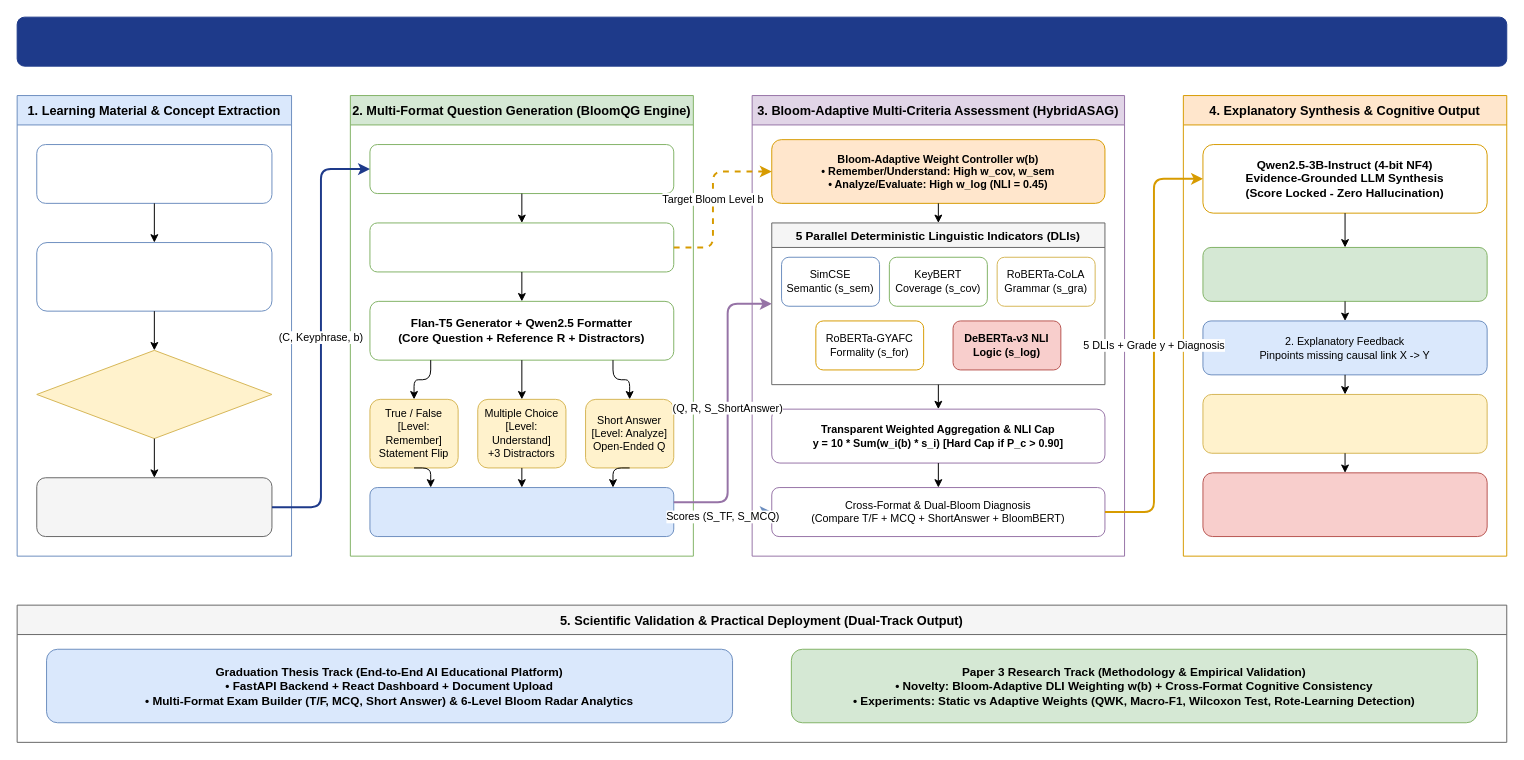
This 1524x760 diagram has some shape labels left out. Here are the shapes that lost their labels. From the top down, the centre of each, then its label:
the point at 761,41: Closed-Loop Cognitive Assessment Architecture: BloomQG + HybridASAG
the point at 154,173: Learning Document (Lecture Notes / PDF / Context)
the point at 521,169: BloomEncoder (BloomBERT) Cognitive Representation (90.12% Acc)
the point at 521,247: Prototype-Guided FusionLayer (6 Bloom Prototype Vectors + Prefix Tuning)
the point at 154,276: KeyBERT Extractor (all-MiniLM-L6-v2) Extract Core Concepts & Keyphrases
the point at 1344,273: 1. Criterion-Level Score & Issue Tags (e.g. Score: 1.0/3.0 | Tag: Logical Error)
the point at 154,394: Bloom Matrix Selector Target Cognitive Level b in {1..6} (Remember -> Create)
the point at 1344,423: 3. Bloom-Aligned Suggestion Guides upgrade: Understand -> Analyze
the point at 154,507: Extracted Triplet Seed (Context C, Key Concept A, Bloom Level b)
the point at 521,512: Student Interactive Assessment Session (Answers: S_TF, S_MCQ, S_ShortAnswer)
the point at 1344,504: 4. Student 6-Level Bloom Radar Profile (Detects Rote Learning vs Deep Mastery)
